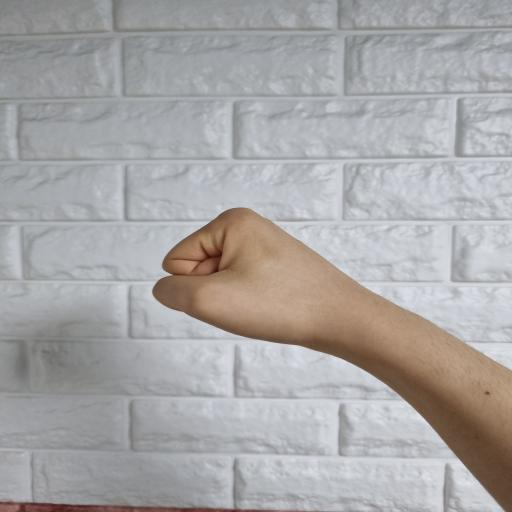Rock: (152, 207, 352, 346)
